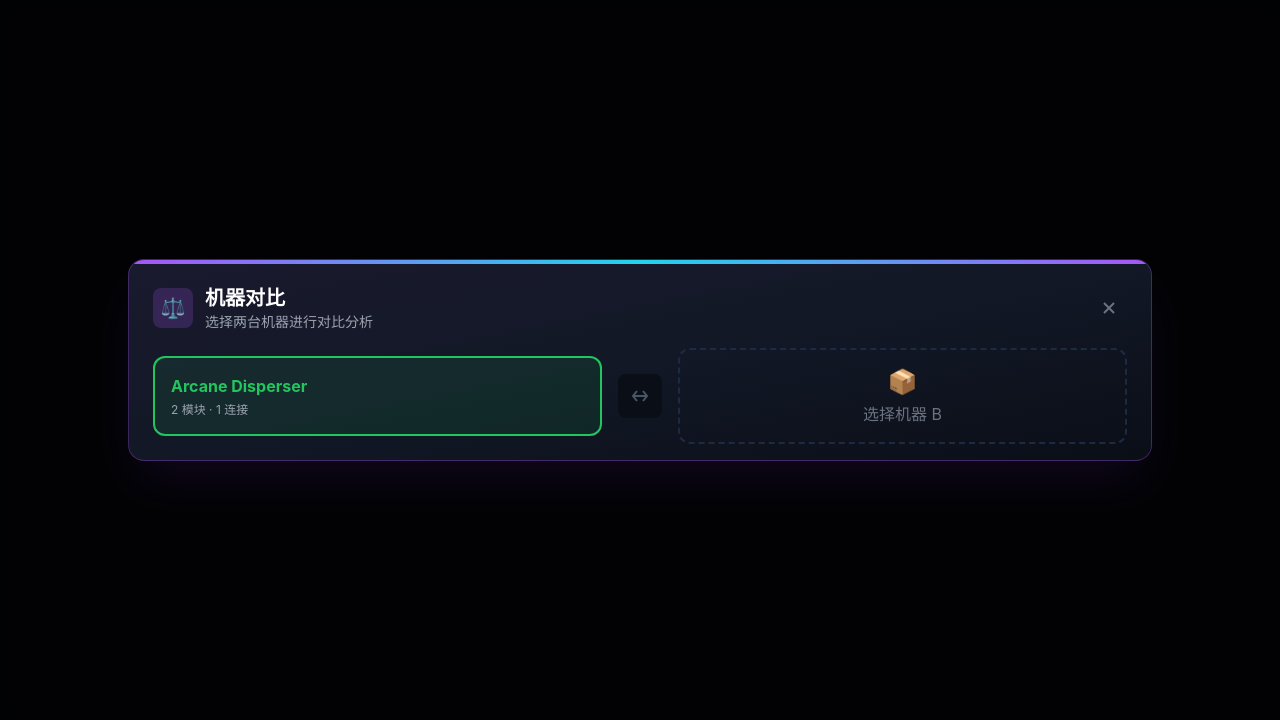
Test: MachineComparisonPanel › Edge Cases › handles same machine cannot be selected for both slots
The width and height of the screenshot is (1280, 720).
Click the button with test id "select-machine-b-button": click(902, 396) [678,348,1127,444]
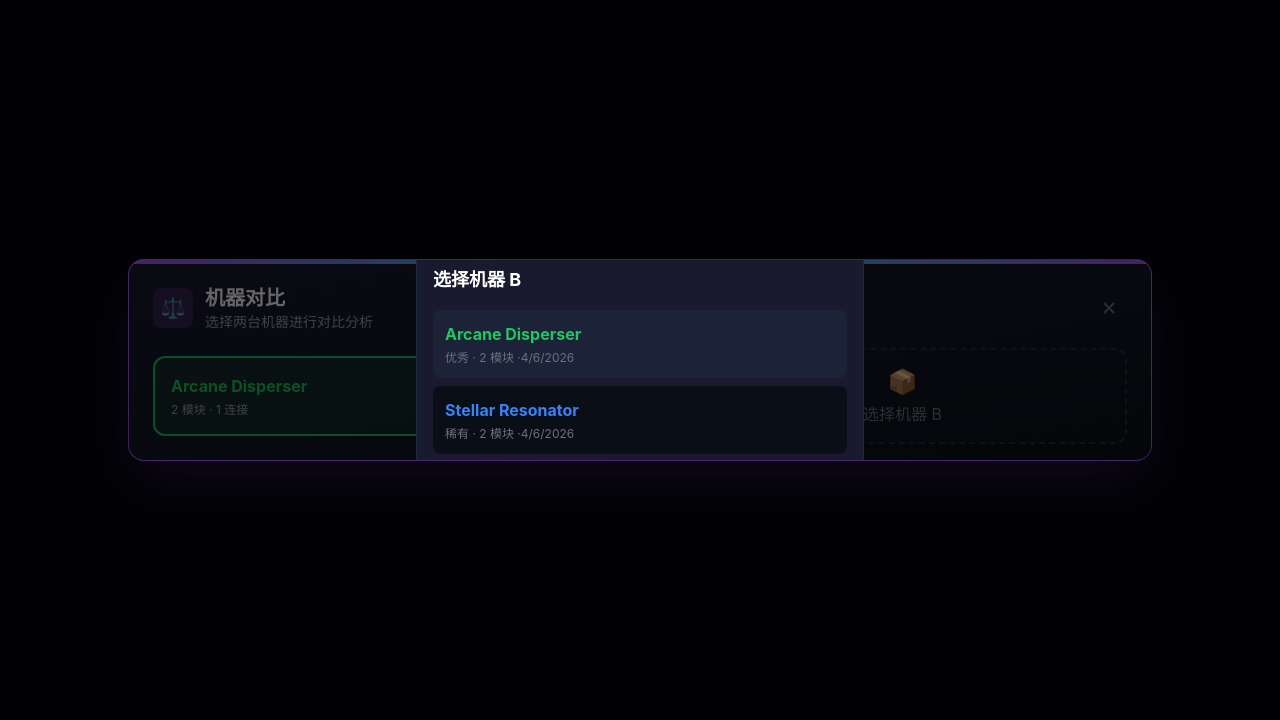
Now the button with test id "select-machine-option-1" is disabled, box [433,310,847,378]
